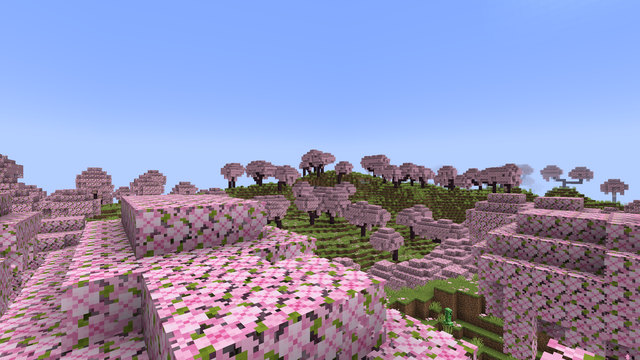creepers: (444, 306, 452, 327)
